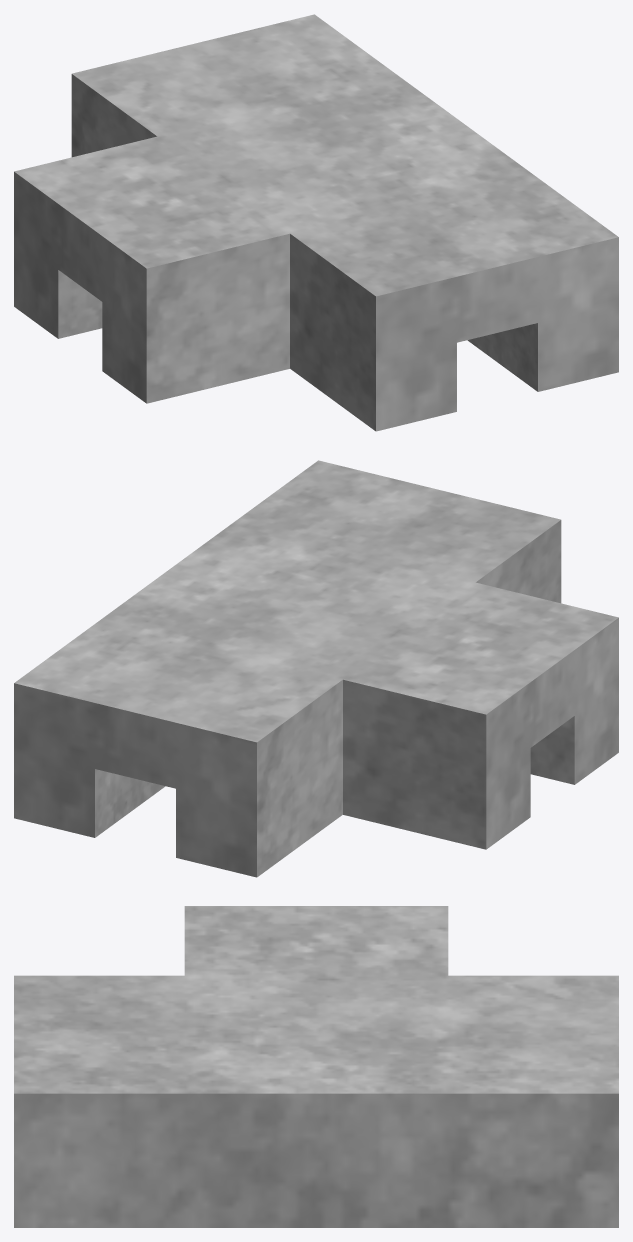
The model's file is PIG_ceiling_rail_Straight&right.glb.
3 renders of one model, top to bottom at view 1: azimuth 30°, elevation 25°; view 2: azimuth 150°, elevation 25°; view 3: azimuth 270°, elevation 25°, orthographic.
Parts seen in each view (by area): view 1: Straight and right; view 2: Straight and right; view 3: Straight and right.
Part boxes in pixels (<box>): Straight and right: <box>14,14,618,431</box>; Straight and right: <box>14,460,618,877</box>; Straight and right: <box>14,906,618,1227</box>.
Size of the model in its own units: 1.64 by 0.5487 by 2.24.
Materials: 1 (1 with a texture image).
